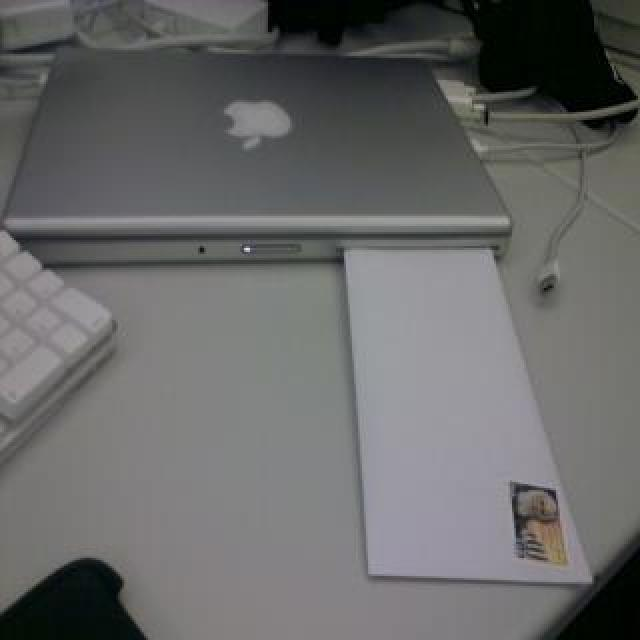laptop_computer: (0, 28, 480, 274)
